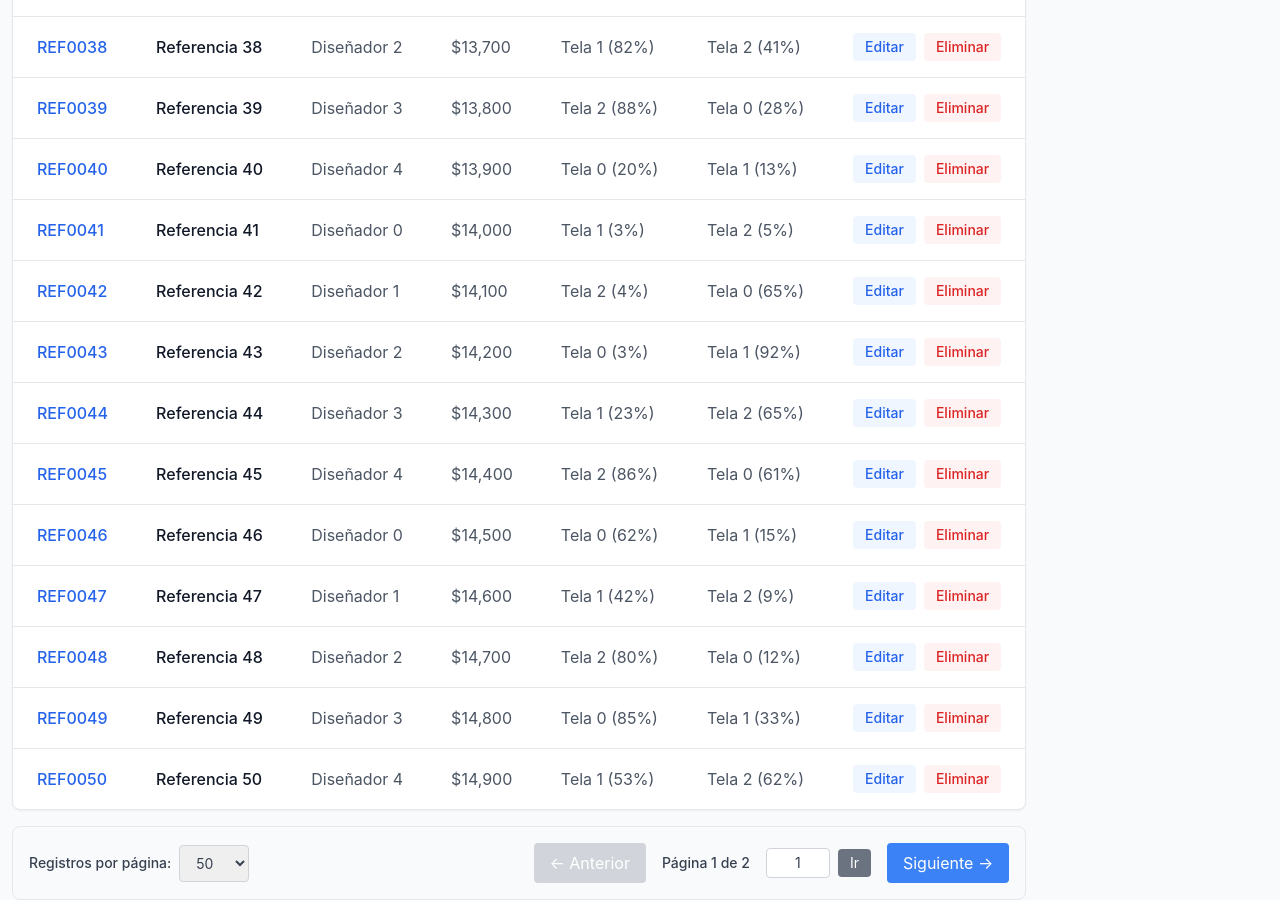
Test: ReferencesModule Unit Tests › Pagination › should navigate to previous page
(page scrolled)
Click the button "Siguiente →" at {"x": 948, "y": 863}, box [887, 843, 1009, 883]
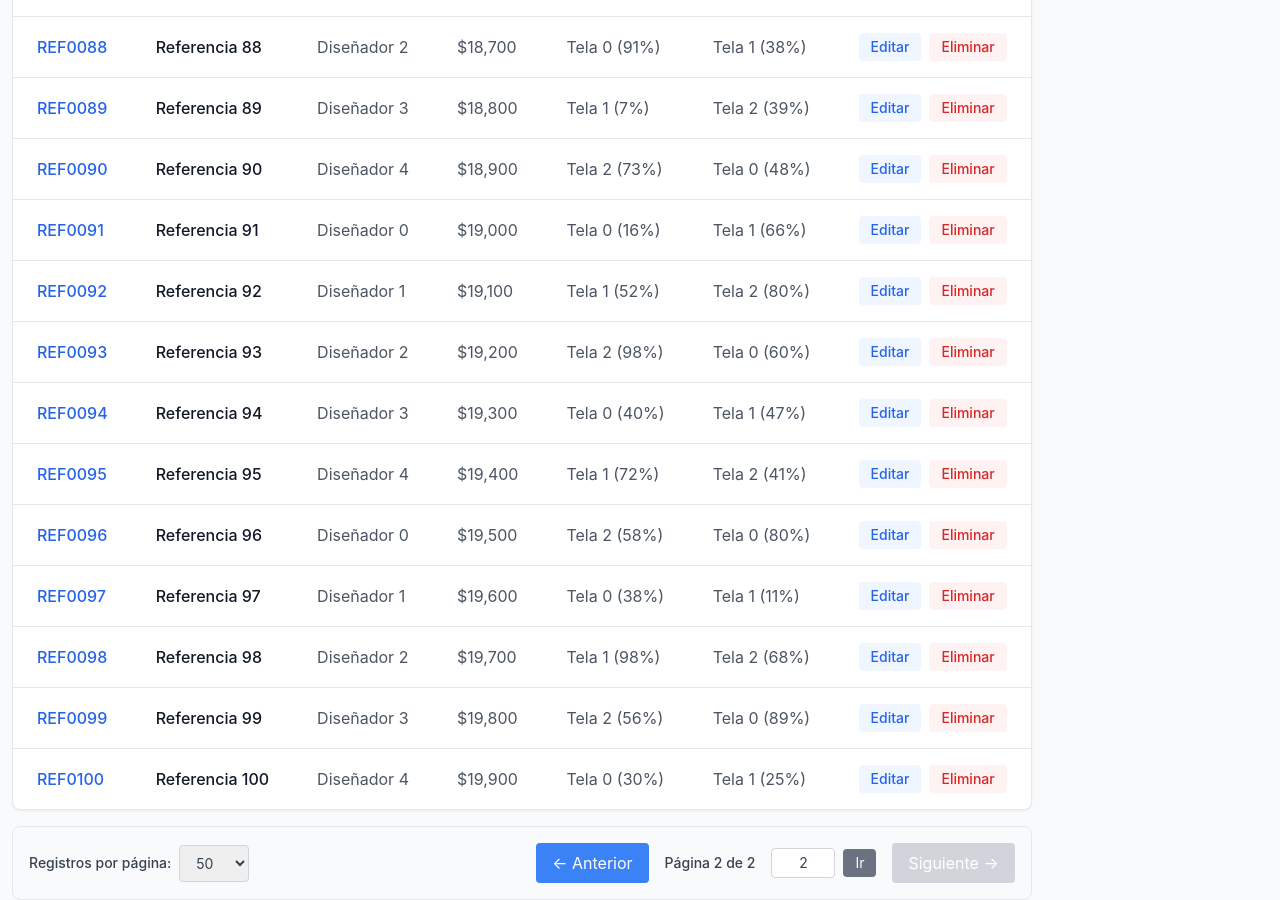
Click the button "← Anterior" at {"x": 592, "y": 863}, box [536, 843, 649, 883]
(page scrolled)
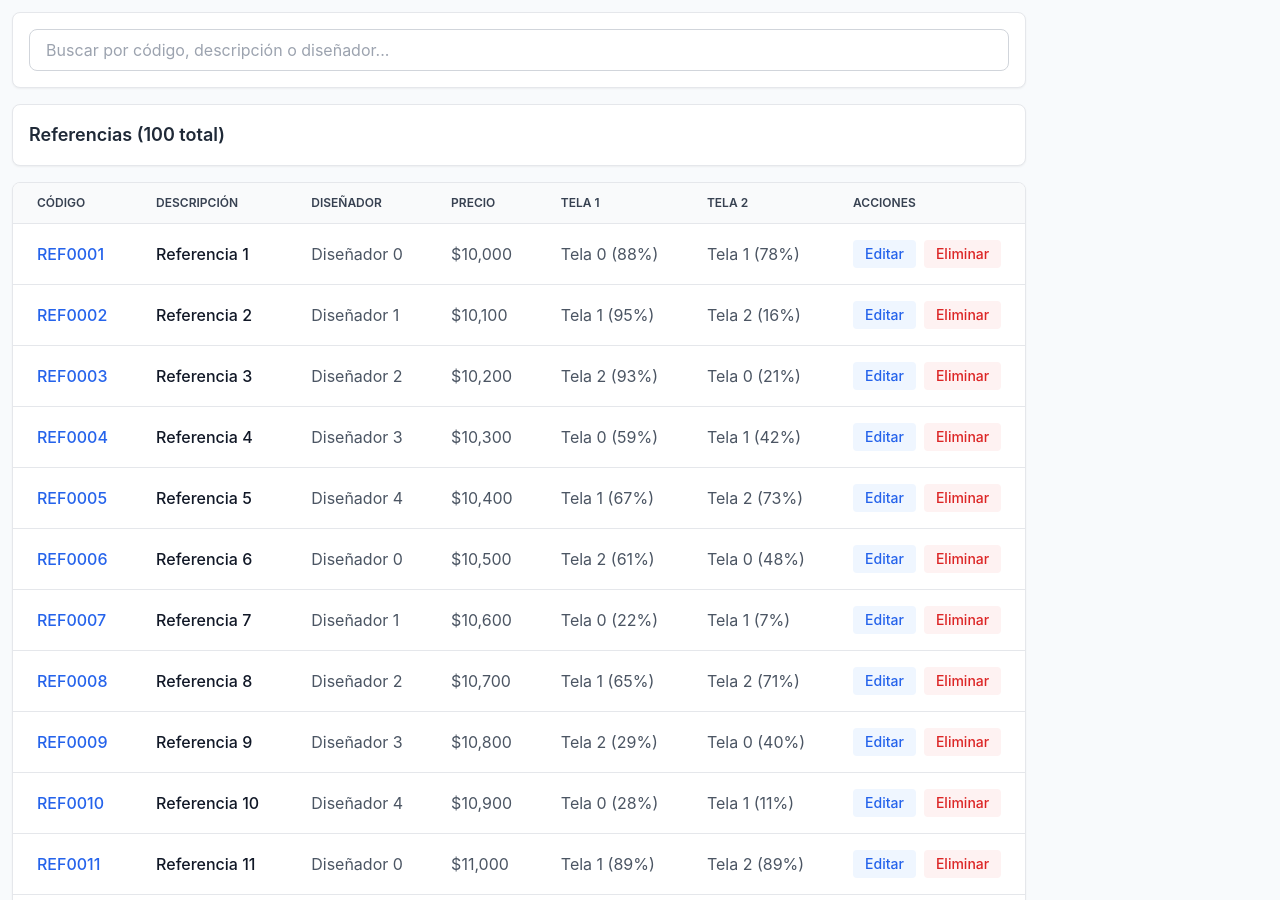
expect the text "Referencia 1" is shown: met, box [132, 224, 287, 284]
